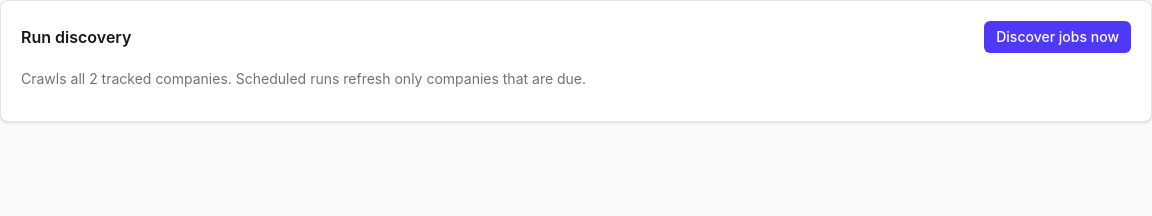
Test: RunPanel › starts a run, follows it and refreshes when it ends
The image size is (1152, 216).
Click the button "Discover jobs now".
click(1058, 37)  # box [984, 21, 1131, 53]
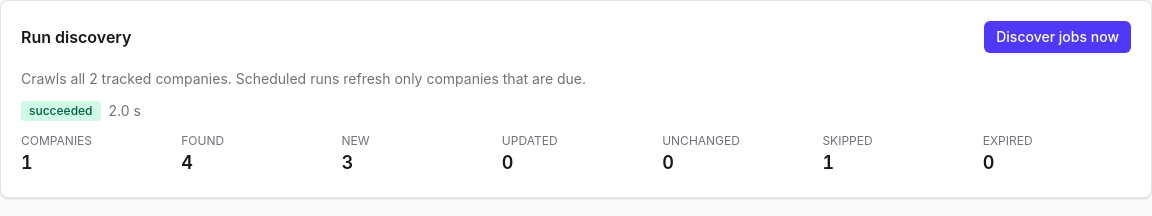
Result: the text "succeeded" is shown at [21, 101, 100, 121]
